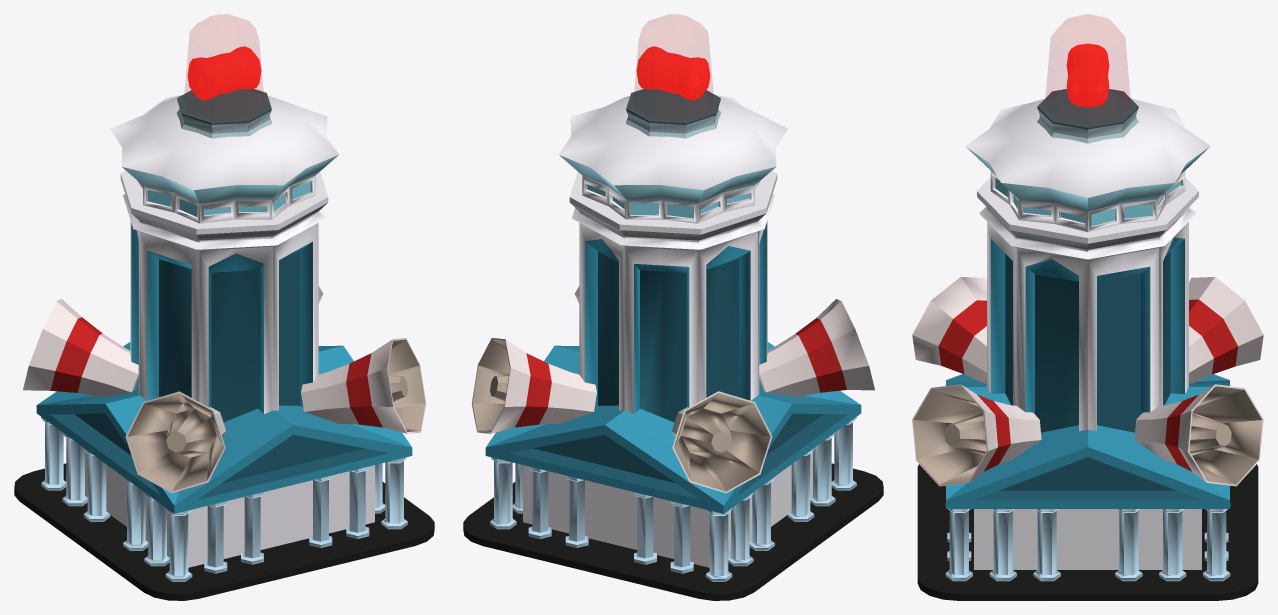
The model's file is sirine_emission3.glb.
The picture shows the model from 3 angles, left to right: view 1: azimuth 30°, elevation 25°; view 2: azimuth 150°, elevation 25°; view 3: azimuth 270°, elevation 25°; orthographic projection. The views are drawn at different scales.
Parts seen in each view (by area): view 1: Plane047, Cube; view 2: Plane047, Cube; view 3: Plane047, Cube.
Part boxes in pixels (x1,y1,x2,y2): Plane047: [14, 14, 434, 600]; Cube: [187, 46, 261, 100]; Plane047: [463, 14, 883, 600]; Cube: [636, 46, 710, 100]; Plane047: [912, 14, 1263, 600]; Cube: [1066, 43, 1109, 107].
Size of the model in its own units: 3.19 by 5.09 by 3.19.
3 materials, 2 textured.
